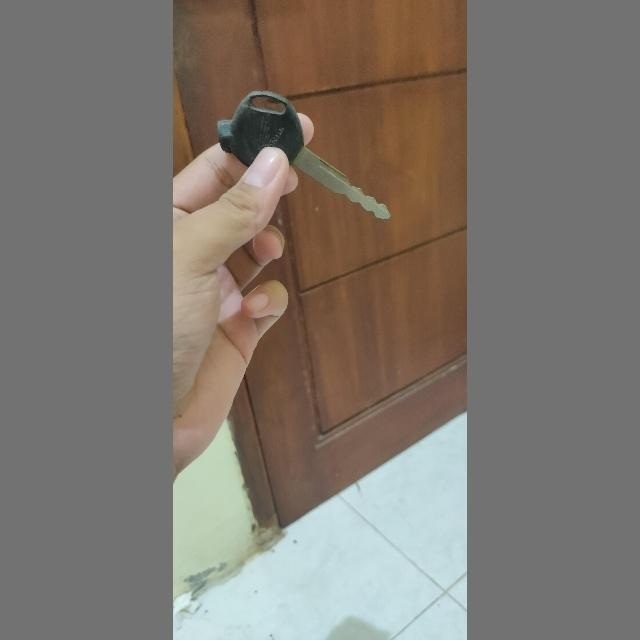Keys: (212, 76, 400, 228)
